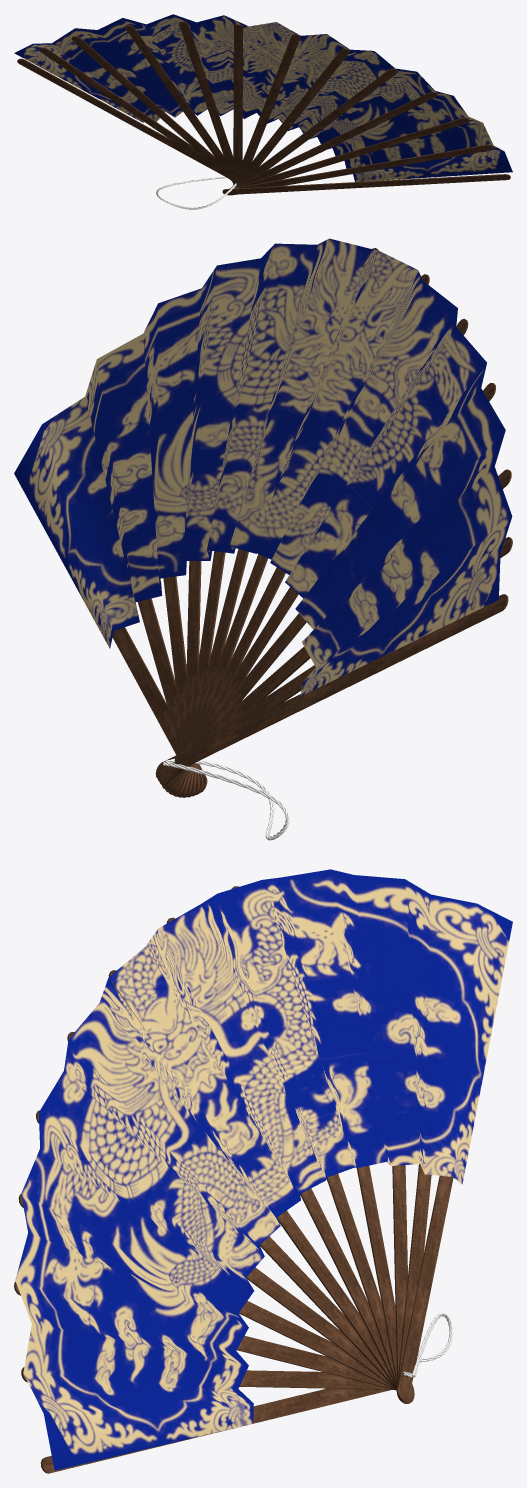
File: chinese_dragon_fan.glb
The picture shows the model from 3 angles, top to bottom: view 1: azimuth 30°, elevation 25°; view 2: azimuth 150°, elevation 25°; view 3: azimuth 270°, elevation 25°; orthographic projection. The views are drawn at different scales.
Parts seen in each view (by area): view 1: Object_2, Object_6, Object_3; view 2: Object_2, Object_6, Object_3; view 3: Object_2, Object_6.
Boxes of the visible parts, <box> form: Object_2: <box>14,14,512,181</box>; Object_6: <box>17,21,510,195</box>; Object_3: <box>156,176,236,209</box>; Object_2: <box>14,238,512,696</box>; Object_6: <box>112,248,512,797</box>; Object_3: <box>163,758,289,840</box>; Object_2: <box>15,869,512,1470</box>; Object_6: <box>14,886,453,1473</box>.
Bounding box in the file's own units: 40.16 × 24.82 × 25.41.
3 materials, 2 textured.
